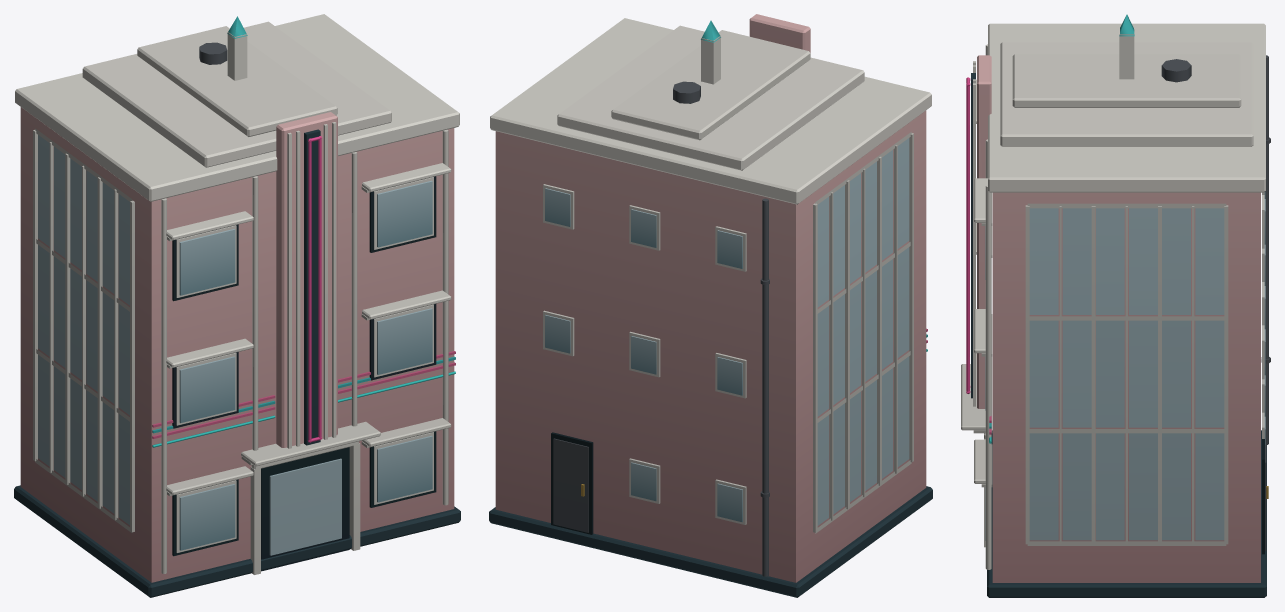
File: deco-hotel-three-bay.glb
3 views of the same model, side by side, from view 1: azimuth 30°, elevation 25°; view 2: azimuth 150°, elevation 25°; view 3: azimuth 270°, elevation 25° (orthographic). The views are drawn at different scales.
Visible parts, largest first — view 1: deco_hotel_three_bay; view 2: deco_hotel_three_bay; view 3: deco_hotel_three_bay.
Boxes of the visible parts, x1,y1,x2,y2 form: deco_hotel_three_bay: (14, 14, 460, 597); deco_hotel_three_bay: (489, 14, 932, 597); deco_hotel_three_bay: (961, 14, 1270, 597).
Size of the model in its own units: 7.44 by 11.26 by 6.24.
